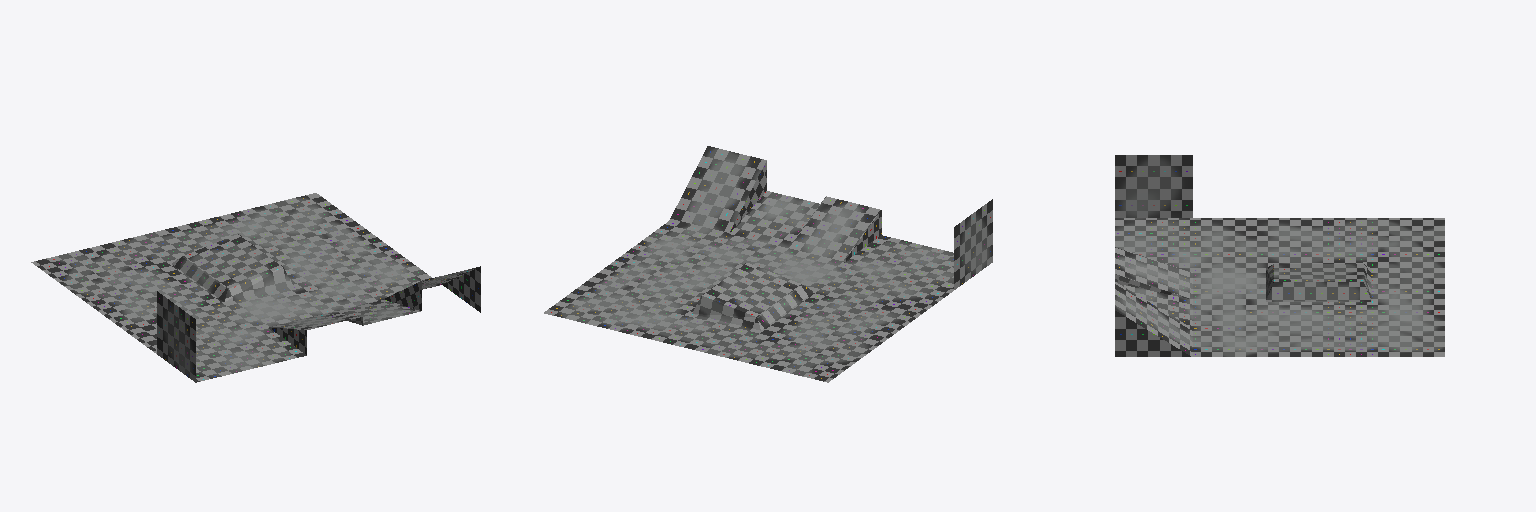
3 renders of one model, left to right at view 1: azimuth 30°, elevation 25°; view 2: azimuth 150°, elevation 25°; view 3: azimuth 270°, elevation 25°, orthographic.
Bounding box in the file's own units: 16.13 × 3.43 × 16.13.
1 materials, 1 textured.